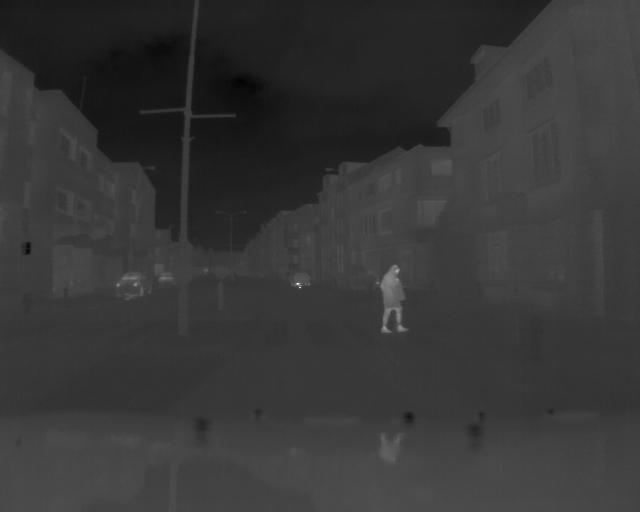car: (112, 268, 155, 297), (287, 270, 312, 288)
person: (372, 261, 407, 337)
